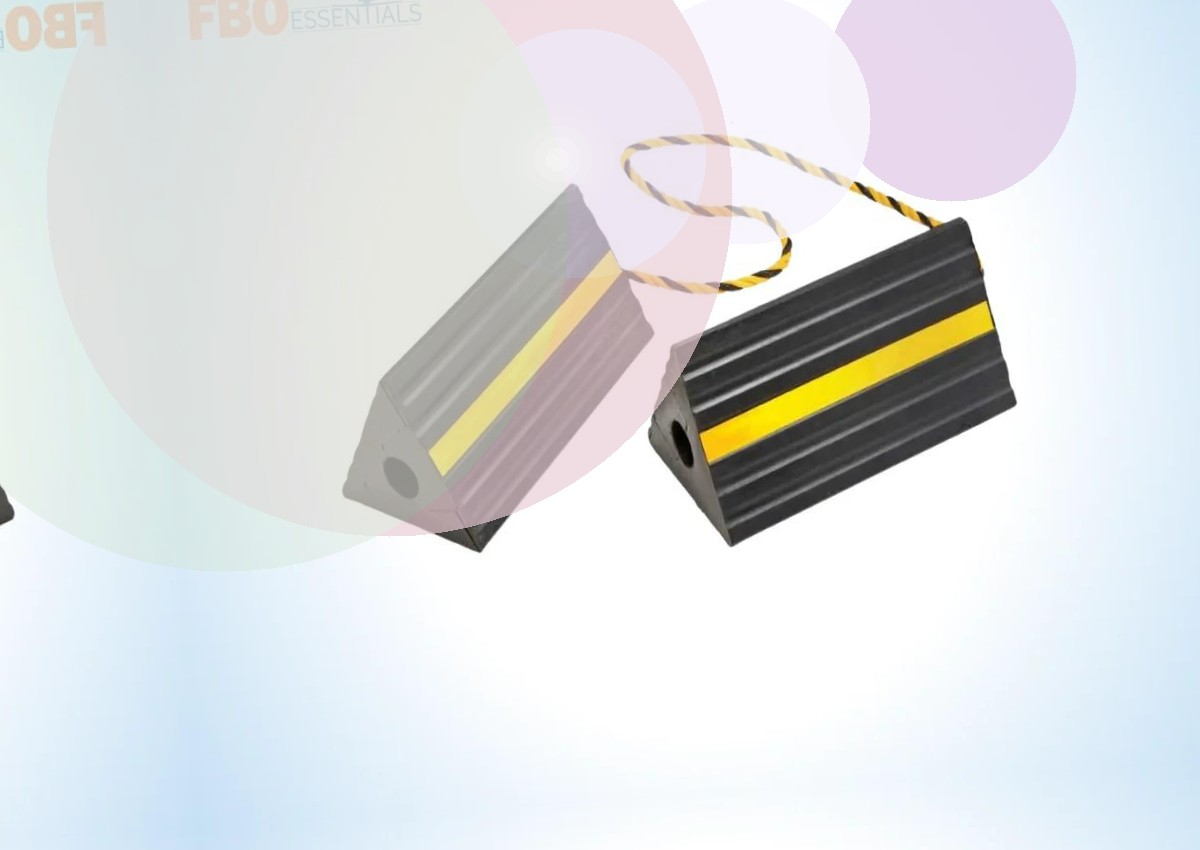chock: (316, 167, 670, 568), (637, 205, 1027, 557)
